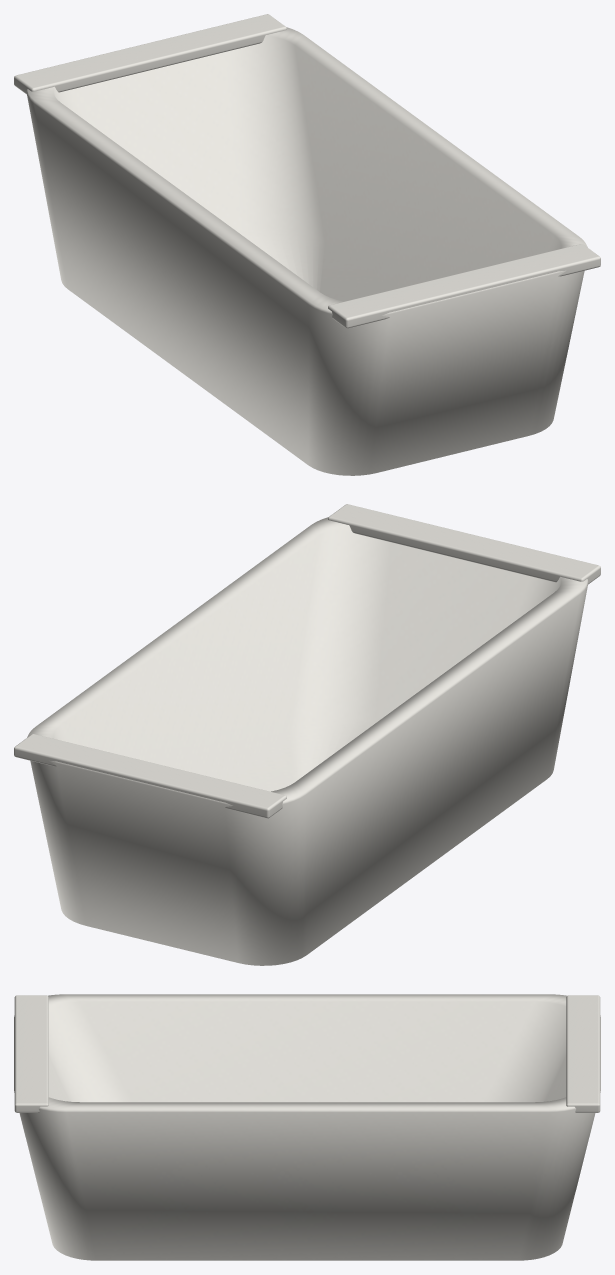
3 views of the same model, one above another, from view 1: azimuth 30°, elevation 25°; view 2: azimuth 150°, elevation 25°; view 3: azimuth 270°, elevation 25° (orthographic). The views are drawn at different scales.
Visible parts, largest first — view 1: Bath | rectangular inset shell, Bath | broad end installation deck.001, Bath | broad end installation deck; view 2: Bath | rectangular inset shell, Bath | broad end installation deck, Bath | broad end installation deck.001; view 3: Bath | rectangular inset shell, Bath | broad end installation deck, Bath | broad end installation deck.001.
Boxes of the visible parts, left/top/right/bottom form: Bath | rectangular inset shell: left=26, top=27, right=587, bottom=475; Bath | broad end installation deck.001: left=14, top=14, right=286, bottom=94; Bath | broad end installation deck: left=328, top=244, right=600, bottom=328; Bath | rectangular inset shell: left=27, top=517, right=588, bottom=965; Bath | broad end installation deck: left=328, top=504, right=600, bottom=584; Bath | broad end installation deck.001: left=14, top=734, right=286, bottom=818; Bath | rectangular inset shell: left=14, top=994, right=600, bottom=1260; Bath | broad end installation deck: left=14, top=995, right=48, bottom=1112; Bath | broad end installation deck.001: left=566, top=995, right=600, bottom=1112.
Size of the model in its own units: 0.802 by 0.527 by 1.71.
Materials: 2 (2 with a texture image).
